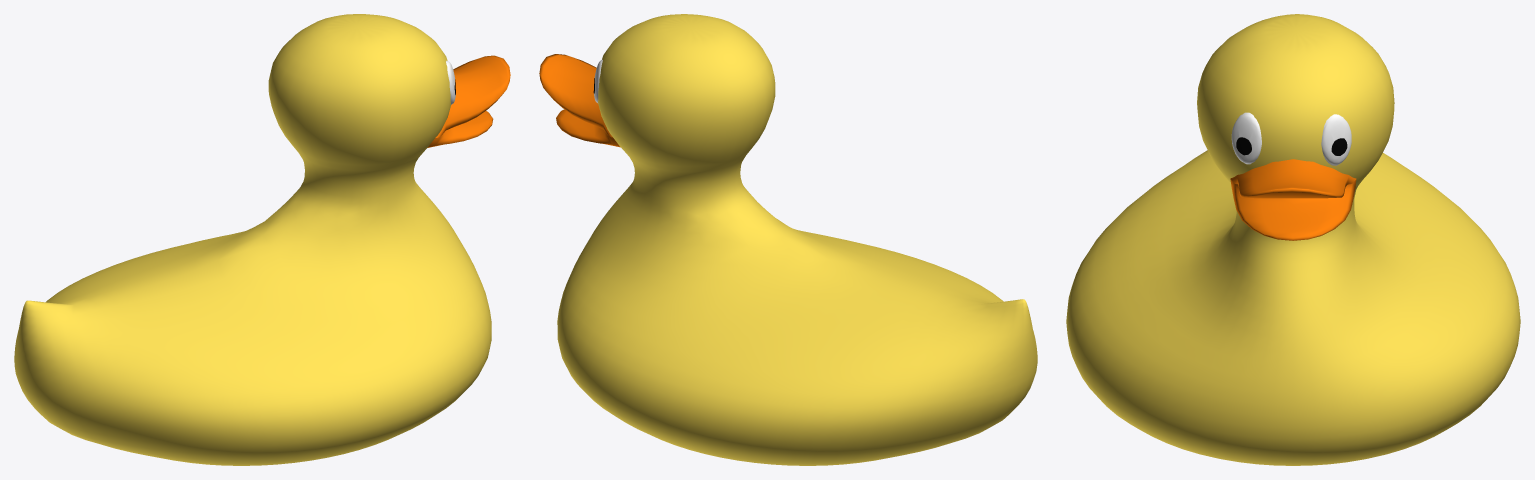
Rendered from rubberduckie.fbx.
The picture shows the model from 3 angles, left to right: view 1: azimuth 30°, elevation 25°; view 2: azimuth 150°, elevation 25°; view 3: azimuth 270°, elevation 25°; orthographic projection. The views are drawn at different scales.
Parts seen in each view (by area): view 1: RubberDuck, Beak; view 2: RubberDuck, Beak; view 3: RubberDuck, Beak, RightEye, LeftEye.
Boxes of the visible parts, x1,y1,x2,y2 form: RubberDuck: (14, 14, 491, 465); Beak: (427, 55, 510, 147); RubberDuck: (557, 14, 1037, 465); Beak: (539, 54, 620, 147); RubberDuck: (1066, 14, 1520, 465); Beak: (1230, 159, 1356, 240); RightEye: (1231, 112, 1261, 164); LeftEye: (1321, 114, 1351, 165).
Size of the model in its own units: 3.97 by 2.8 by 2.81.
